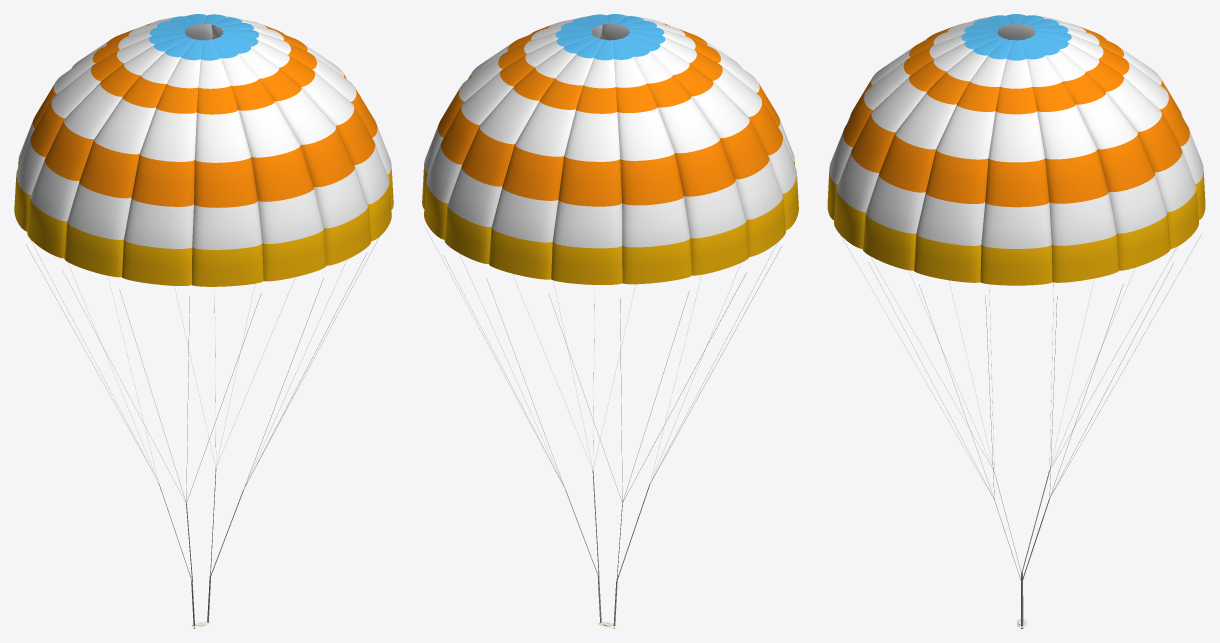
File: chuteBody.fbx
The picture shows the model from 3 angles, left to right: view 1: azimuth 30°, elevation 25°; view 2: azimuth 150°, elevation 25°; view 3: azimuth 270°, elevation 25°; orthographic projection.
Visible parts, largest first — view 1: Military parachute_mesh; view 2: Military parachute_mesh; view 3: Military parachute_mesh.
Part boxes in pixels (<box>): Military parachute_mesh: <box>14,14,393,628</box>; Military parachute_mesh: <box>422,14,798,628</box>; Military parachute_mesh: <box>827,14,1205,628</box>.
Bounding box in the file's own units: 612 × 1060 × 612.
